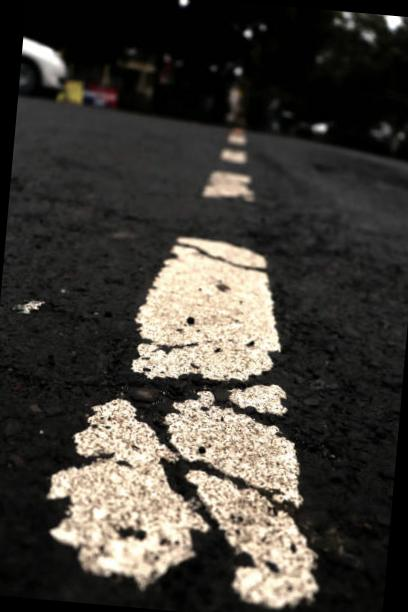faded_road_lines: (29, 217, 351, 612), (191, 168, 265, 208)
